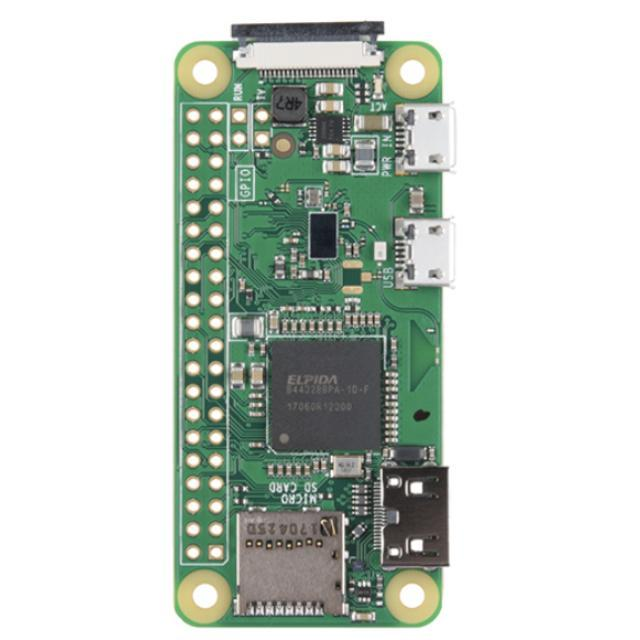Raspberry-Pi-Zero-W: (174, 22, 457, 627)
